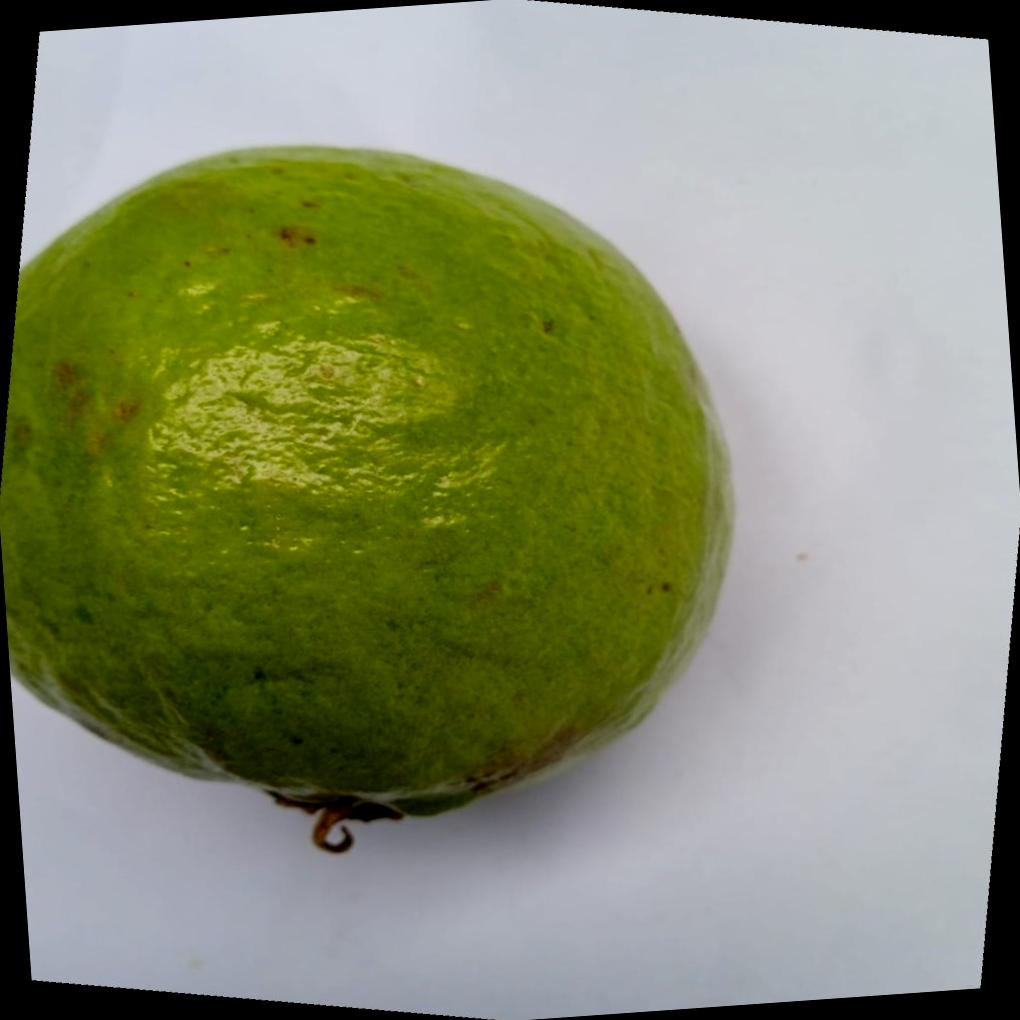FreshGuava: (0, 146, 736, 852)
